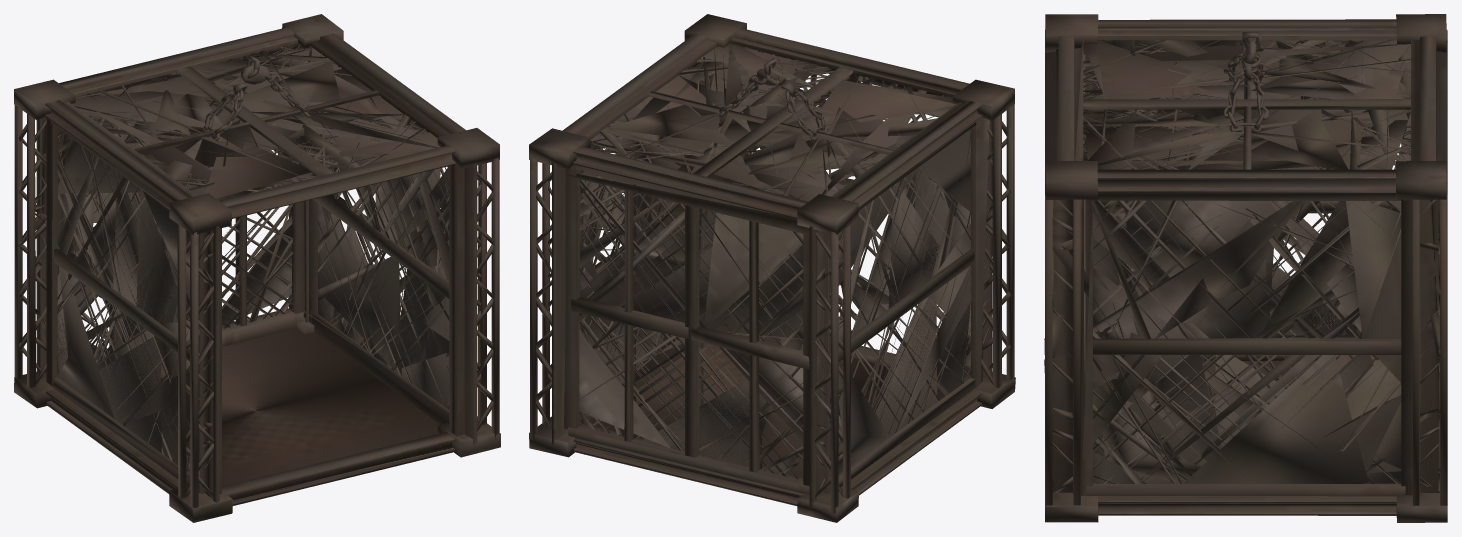
File: k-lift.glb
3 renders of one model, left to right at view 1: azimuth 30°, elevation 25°; view 2: azimuth 150°, elevation 25°; view 3: azimuth 270°, elevation 25°, orthographic. The views are drawn at different scales.
Size of the model in its own units: 0.8472 by 0.9478 by 0.855.
1 material, 1 textured.
